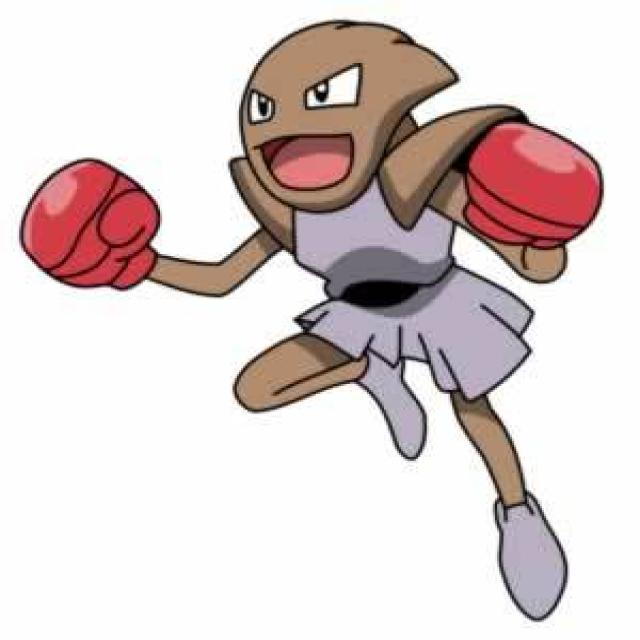Hitmonchan: (19, 10, 607, 631)
